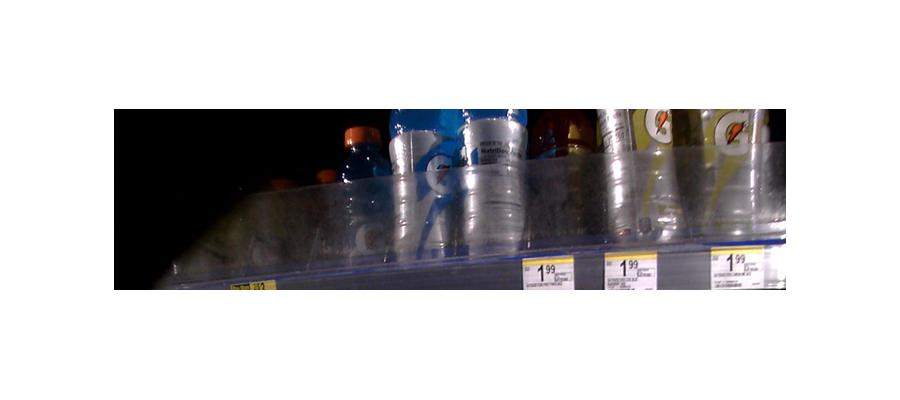bottle: (458, 103, 529, 259), (703, 107, 779, 238), (402, 103, 460, 261), (627, 104, 692, 241), (539, 111, 604, 248), (337, 116, 394, 264)
